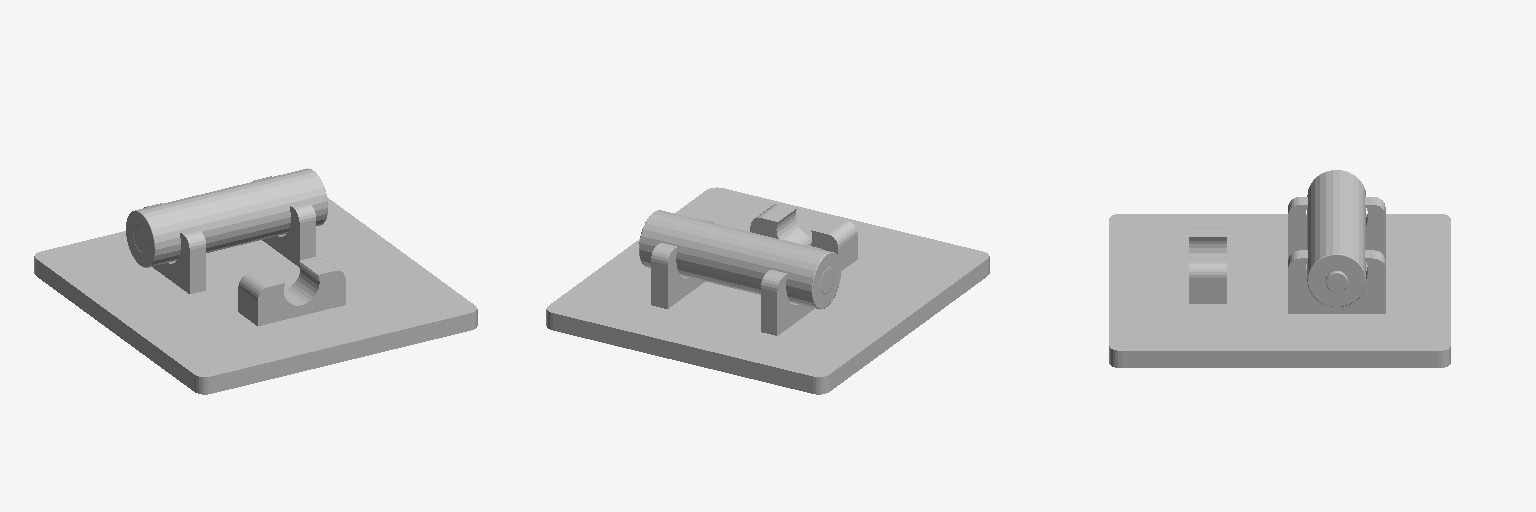
Rendered from 00-lightbulb v21.obj.
The picture shows the model from 3 angles: view 1: azimuth 30°, elevation 25°; view 2: azimuth 150°, elevation 25°; view 3: azimuth 270°, elevation 25°; orthographic projection.
Visible parts, largest first — view 1: Body1:2, Body1, Body1:4, Body1:1, Body2, Body1:3; view 2: Body1:2, Body1, Body2, Body1:1, Body1:3, Body1:4; view 3: Body1:2, Body1, Body2, Body1:1, Body1:3, Body1:4.
Boxes of the visible parts, x1=… form: Body1:2: x1=34, y1=197, x2=477, y2=394; Body1: x1=126, y1=168, x2=327, y2=267; Body1:4: x1=248, y1=264, x2=345, y2=325; Body1:1: x1=144, y1=203, x2=205, y2=293; Body2: x1=253, y1=176, x2=315, y2=267; Body1:3: x1=238, y1=256, x2=330, y2=318; Body1:2: x1=546, y1=187, x2=989, y2=394; Body1: x1=639, y1=210, x2=840, y2=309; Body2: x1=651, y1=218, x2=713, y2=308; Body1:1: x1=761, y1=245, x2=823, y2=335; Body1:3: x1=750, y1=211, x2=847, y2=270; Body1:4: x1=764, y1=204, x2=857, y2=265; Body1:2: x1=1109, y1=214, x2=1450, y2=367; Body1: x1=1307, y1=170, x2=1365, y2=306; Body2: x1=1288, y1=250, x2=1385, y2=313; Body1:1: x1=1288, y1=197, x2=1385, y2=259; Body1:3: x1=1208, y1=228, x2=1226, y2=303; Body1:4: x1=1189, y1=228, x2=1207, y2=303.
Size of the model in its own units: 8 by 2.38 by 8.4.